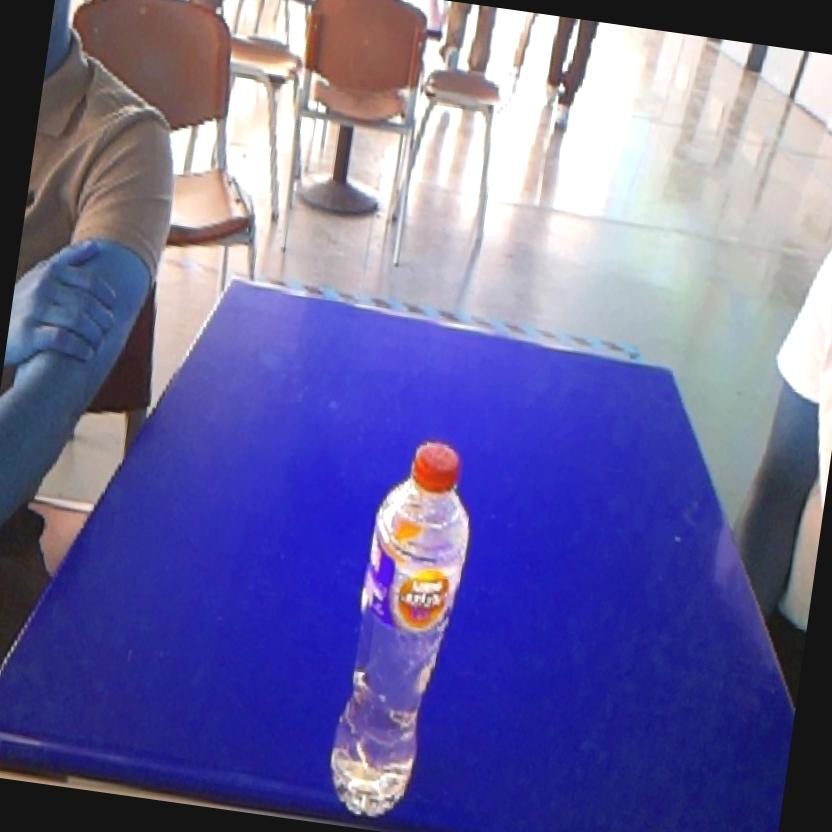good: (310, 420, 488, 832)
